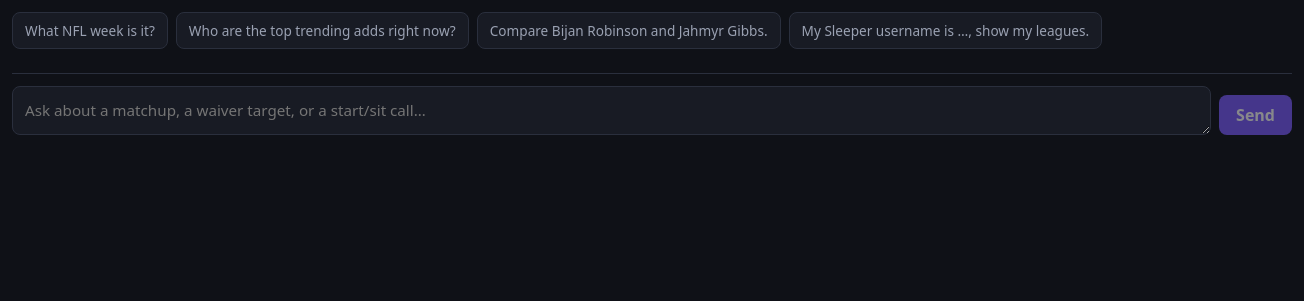
Test: ChatPage › renders a streamed markdown table, not raw pipes
This screenshot has width=1304, height=301.
Type "top WR?" into the text box labelled "Ask about a matchup, a waiver target, or a start/sit call…" at (612, 110), box [12,86,1211,135]
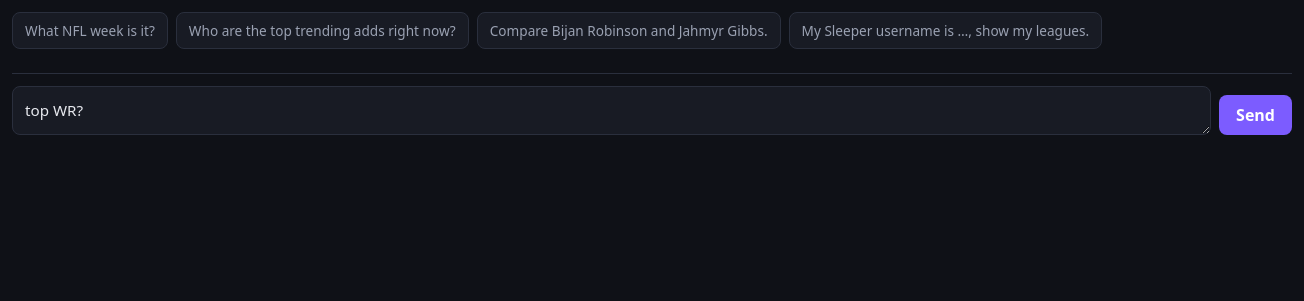
Click the button "Send" at (1256, 115), box [1219,95,1292,135]
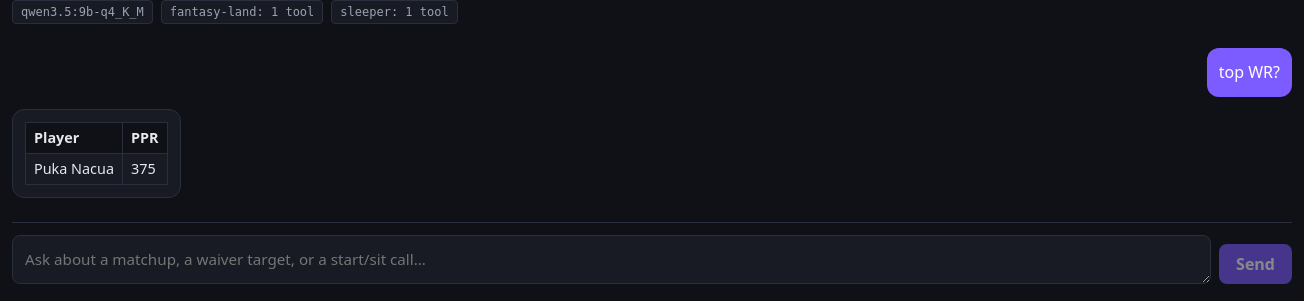
Check: the table is shown, box [25,122,168,186]
Check: the cell "Puka Nacua" is shown, box [26,154,122,185]
